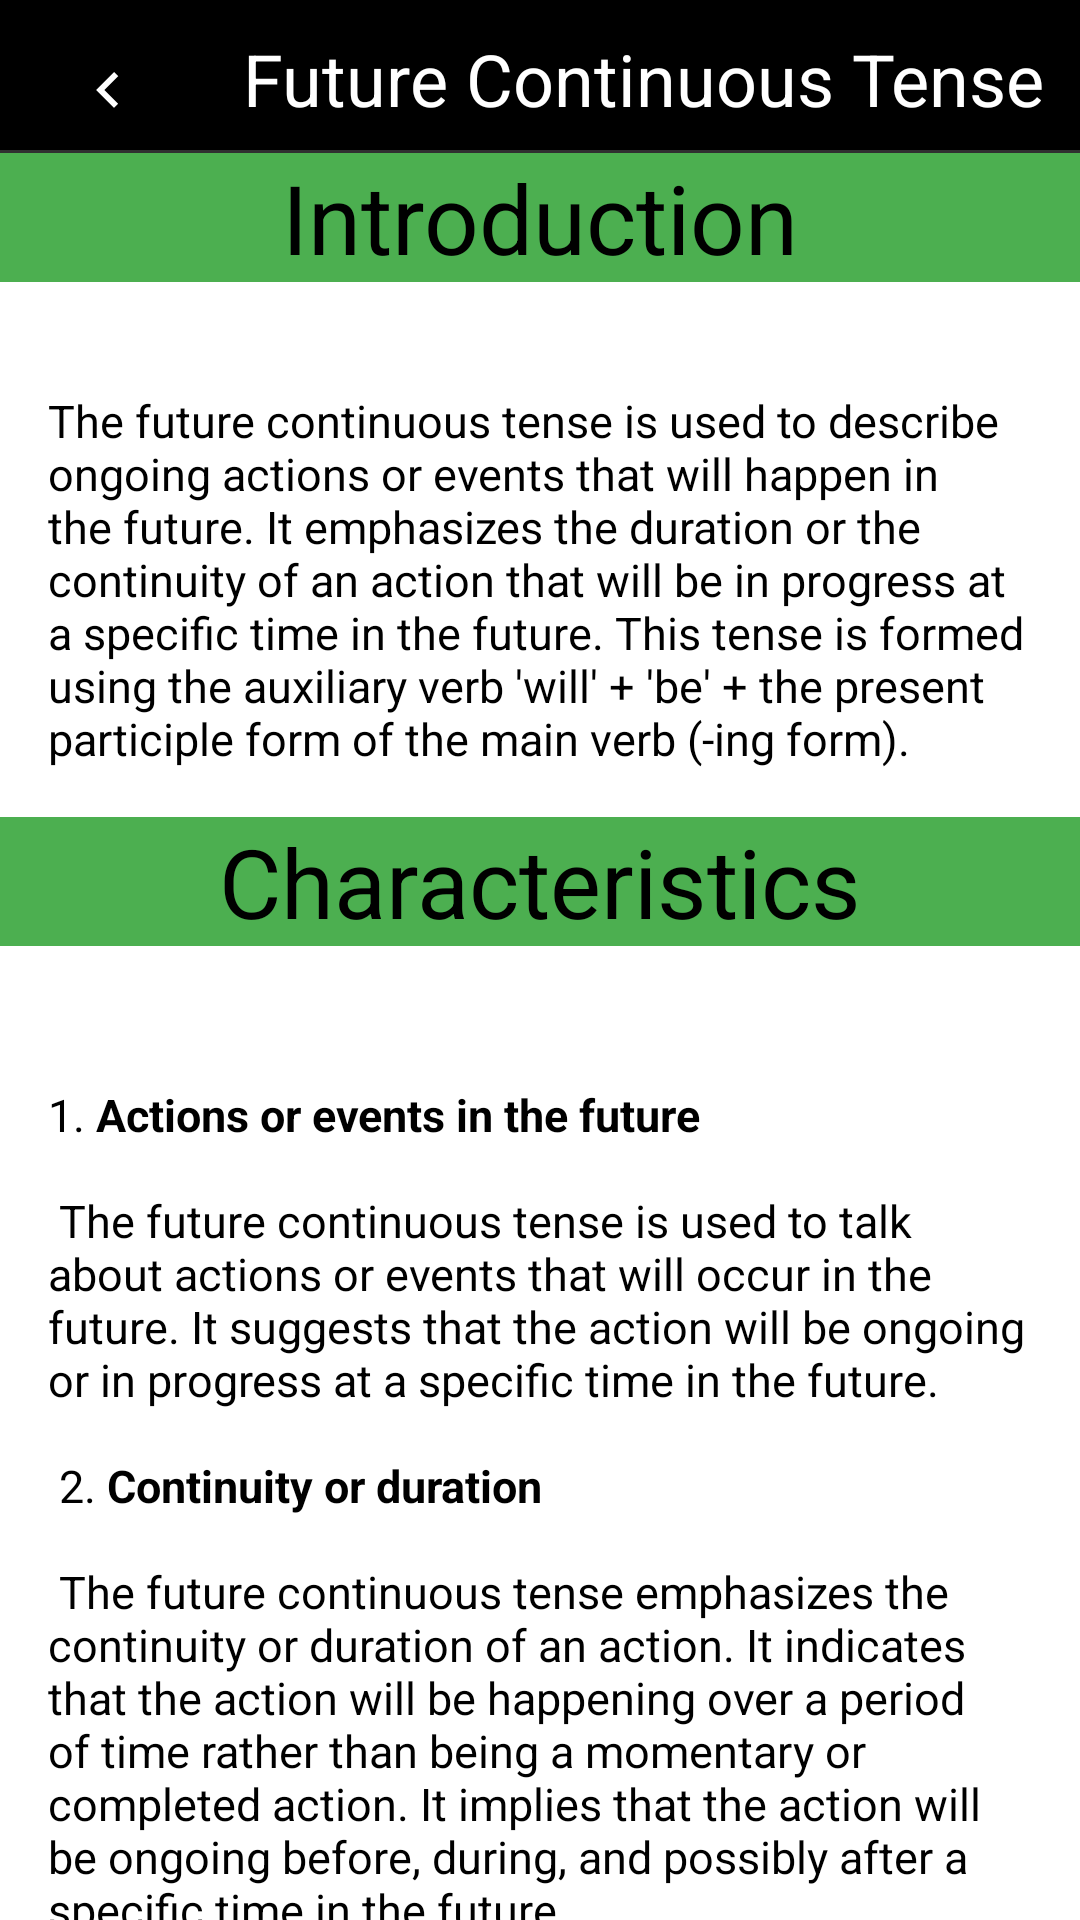

Where to tap for icons on this 1080×1920 app screen, as (x=x, y=y):
backbt: (x=107, y=90)
